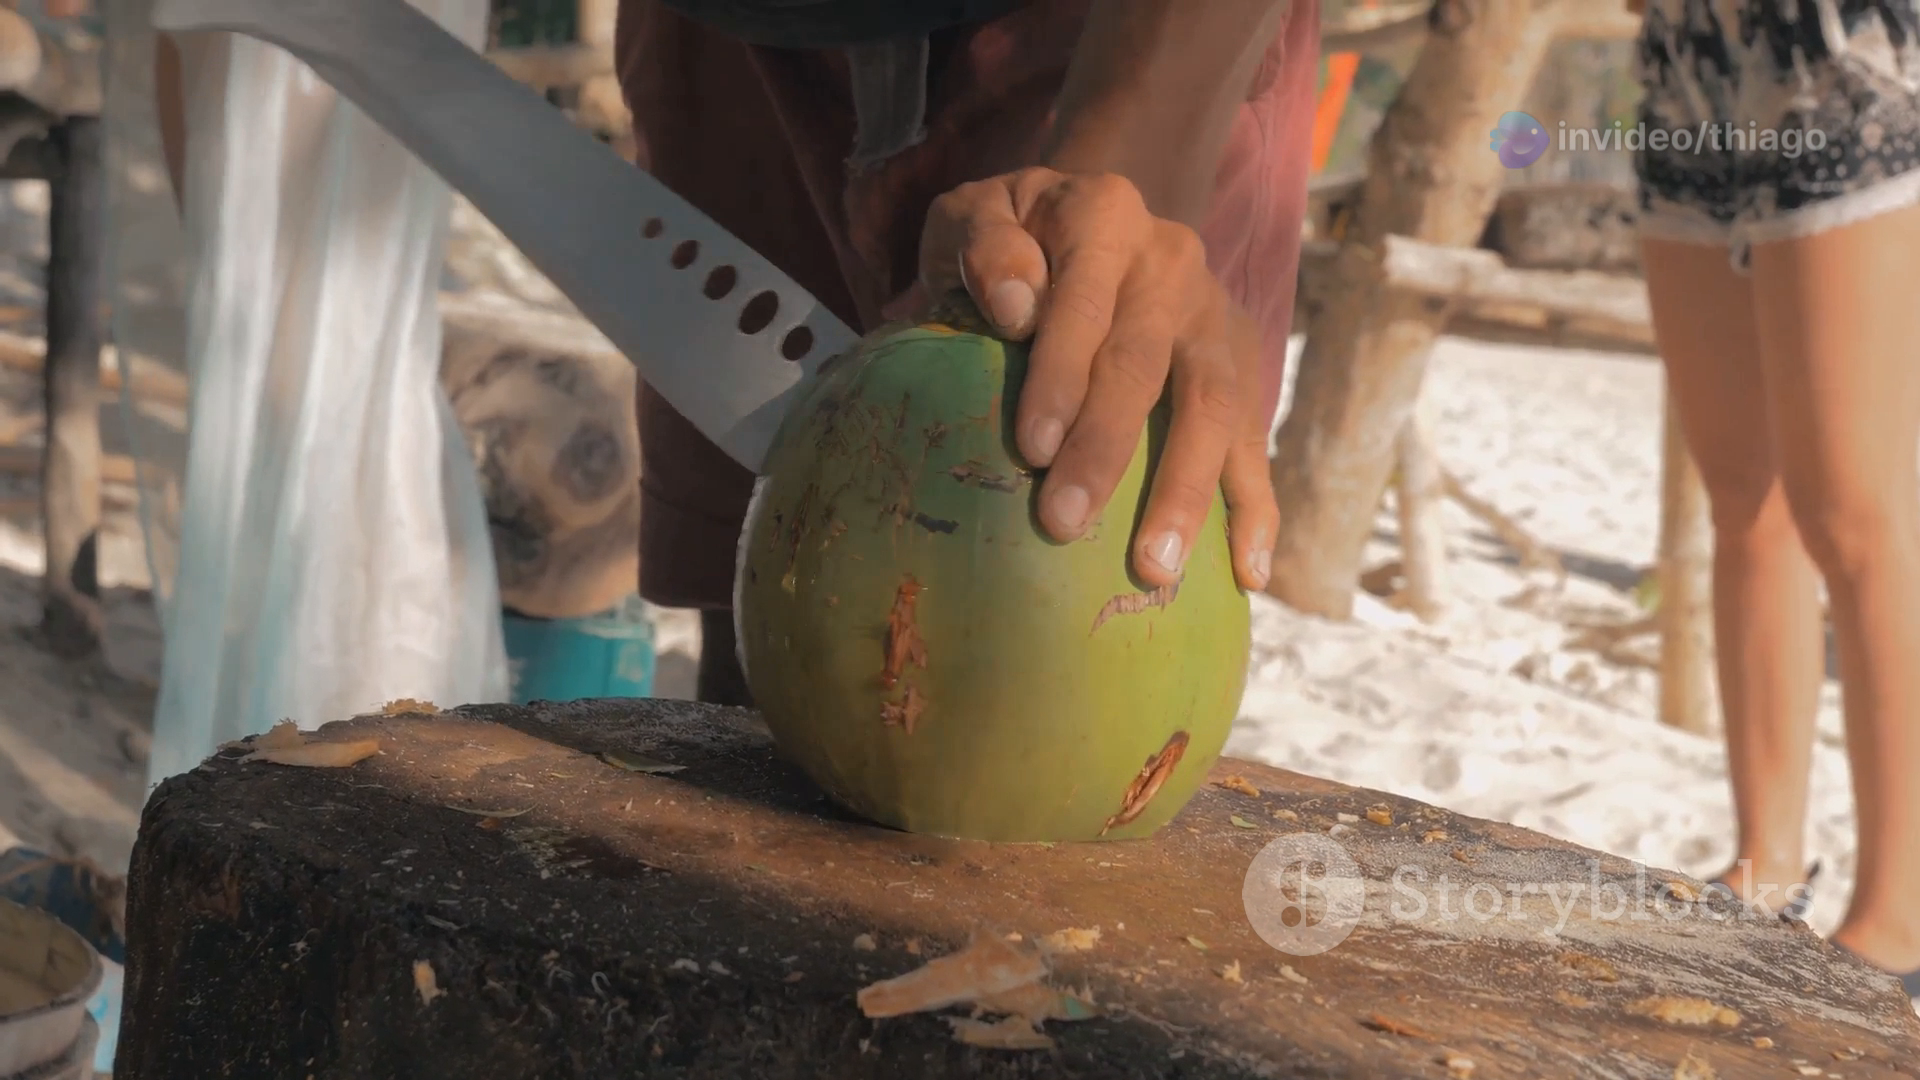cortante: (152, 0, 862, 476)
